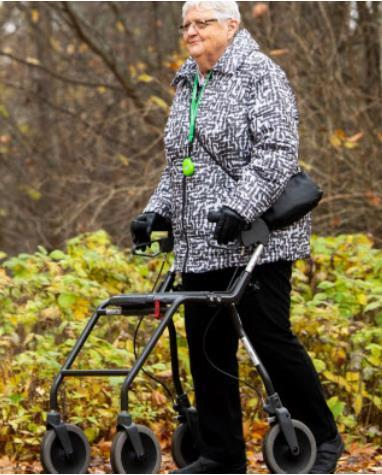walking_frame: (41, 0, 345, 475)
